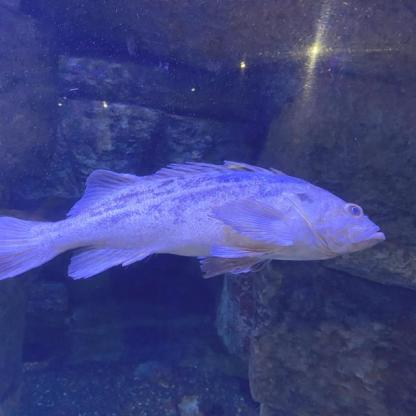fish: (0, 152, 387, 303)
